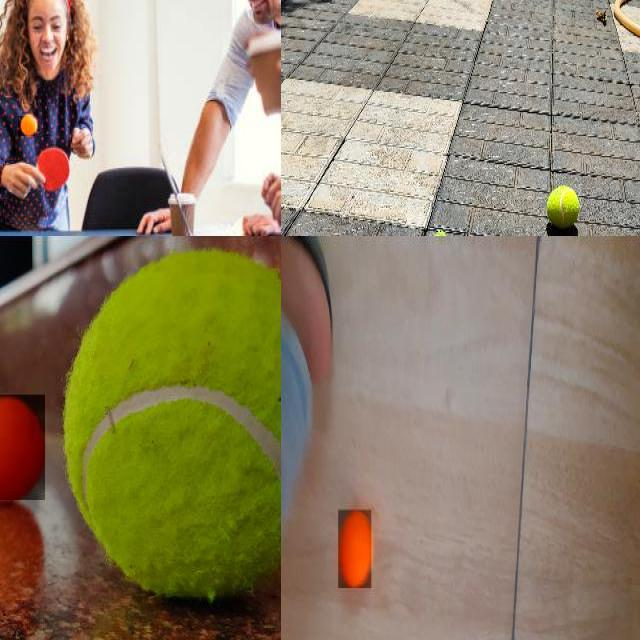ping-pong-ball: (0, 394, 46, 502), (338, 510, 372, 589), (18, 116, 36, 137)
